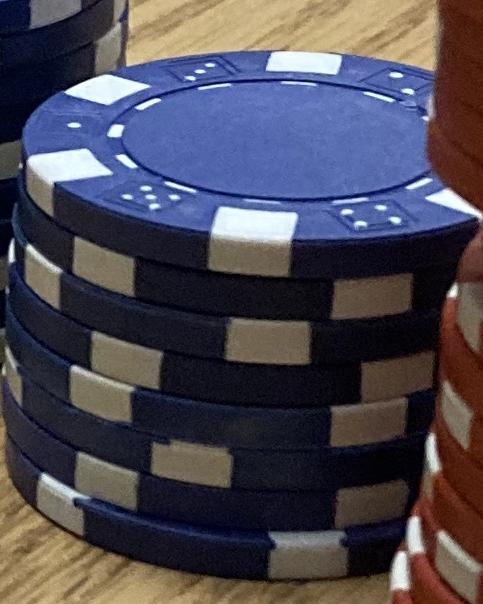Chip: (1, 1, 483, 604)
